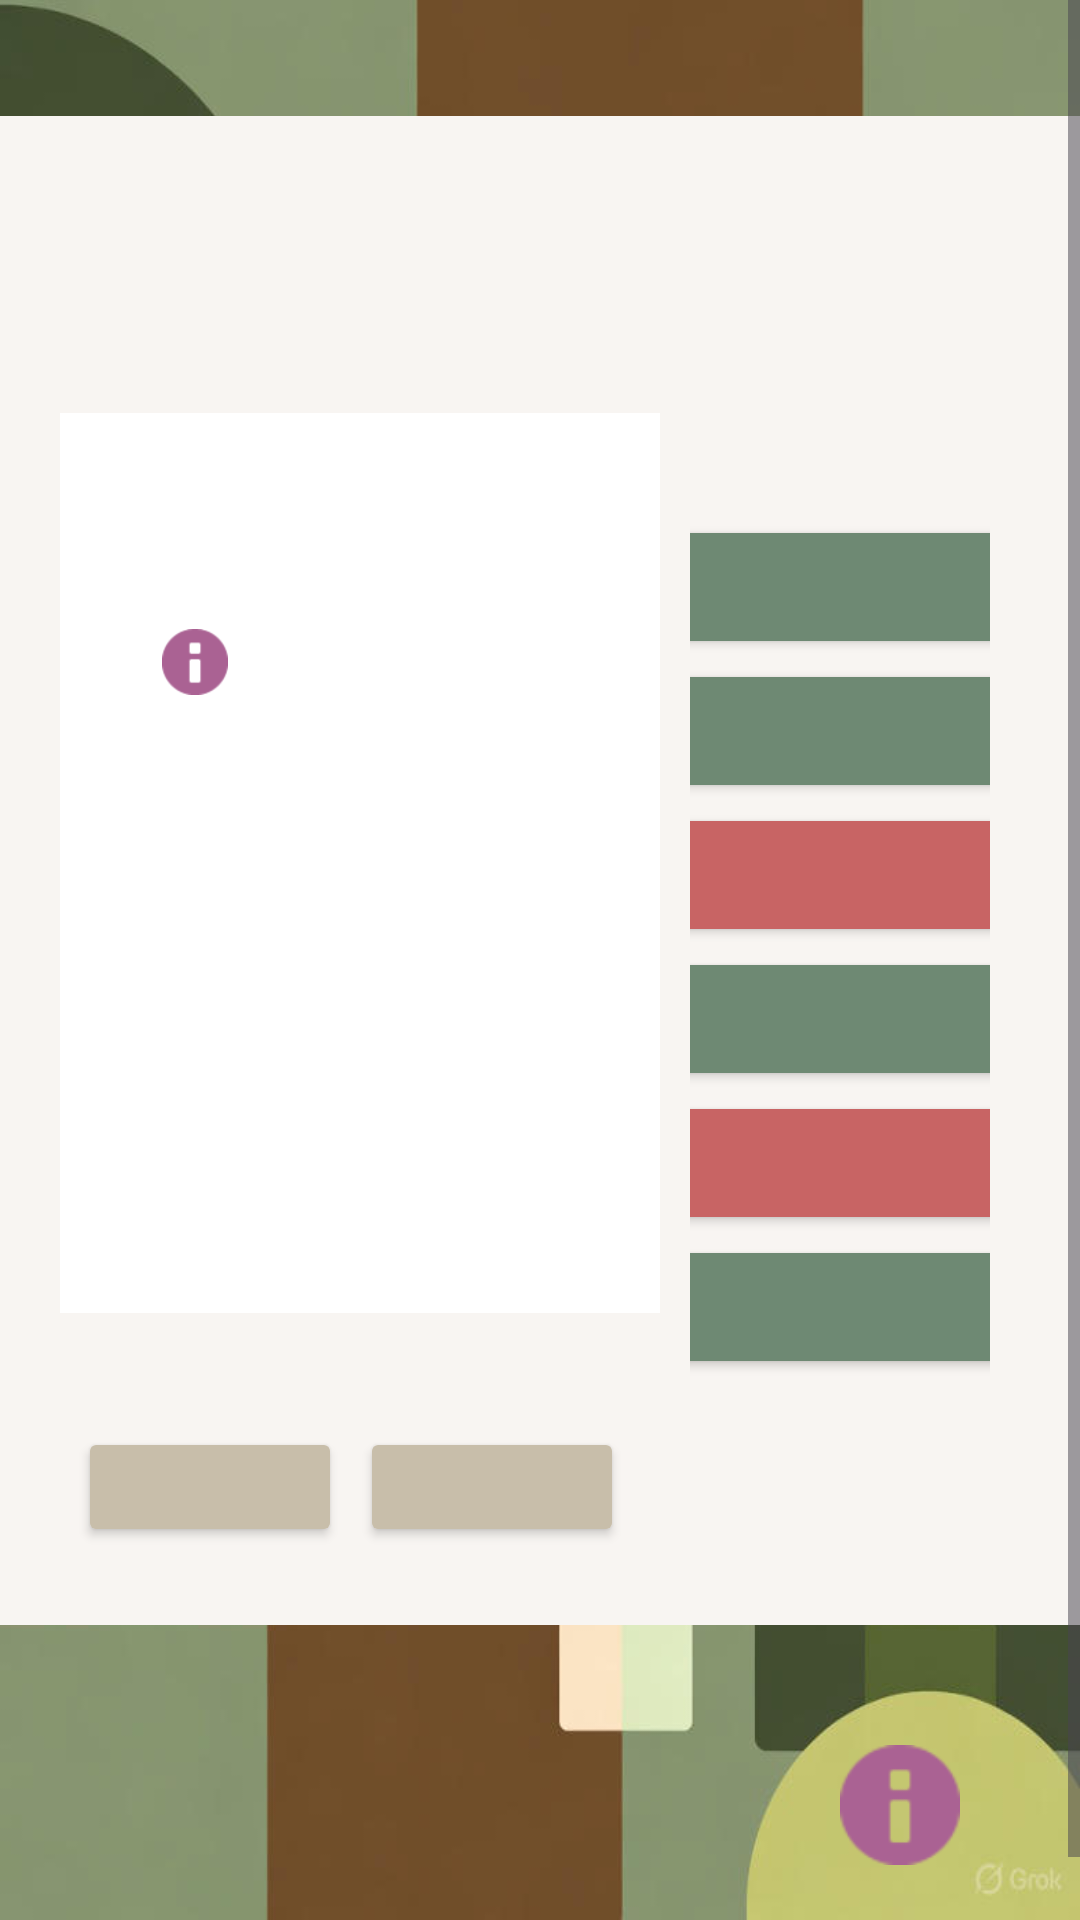

Where icons sit on this 1080px x 1920px app screen, as (x1, y1, x2, y2):
info: (162, 629, 228, 695), (840, 1745, 990, 1889)
